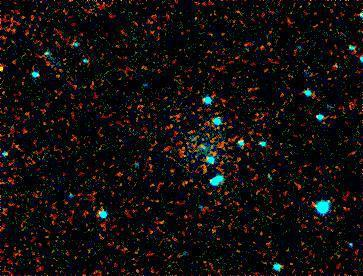star: (0, 57, 25, 87)
